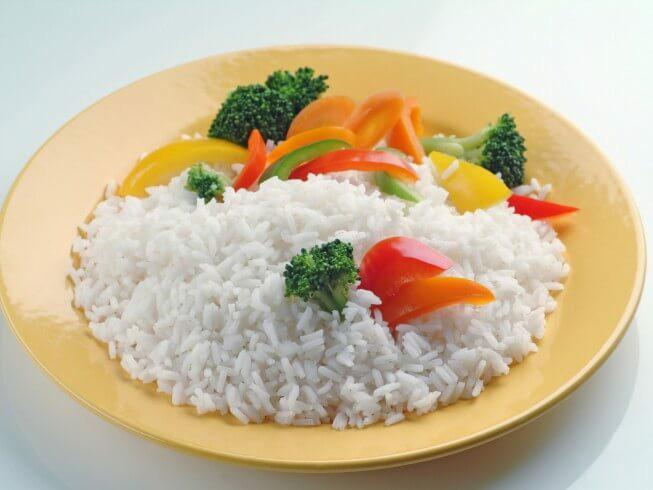WhiteRice: (70, 178, 565, 431)
